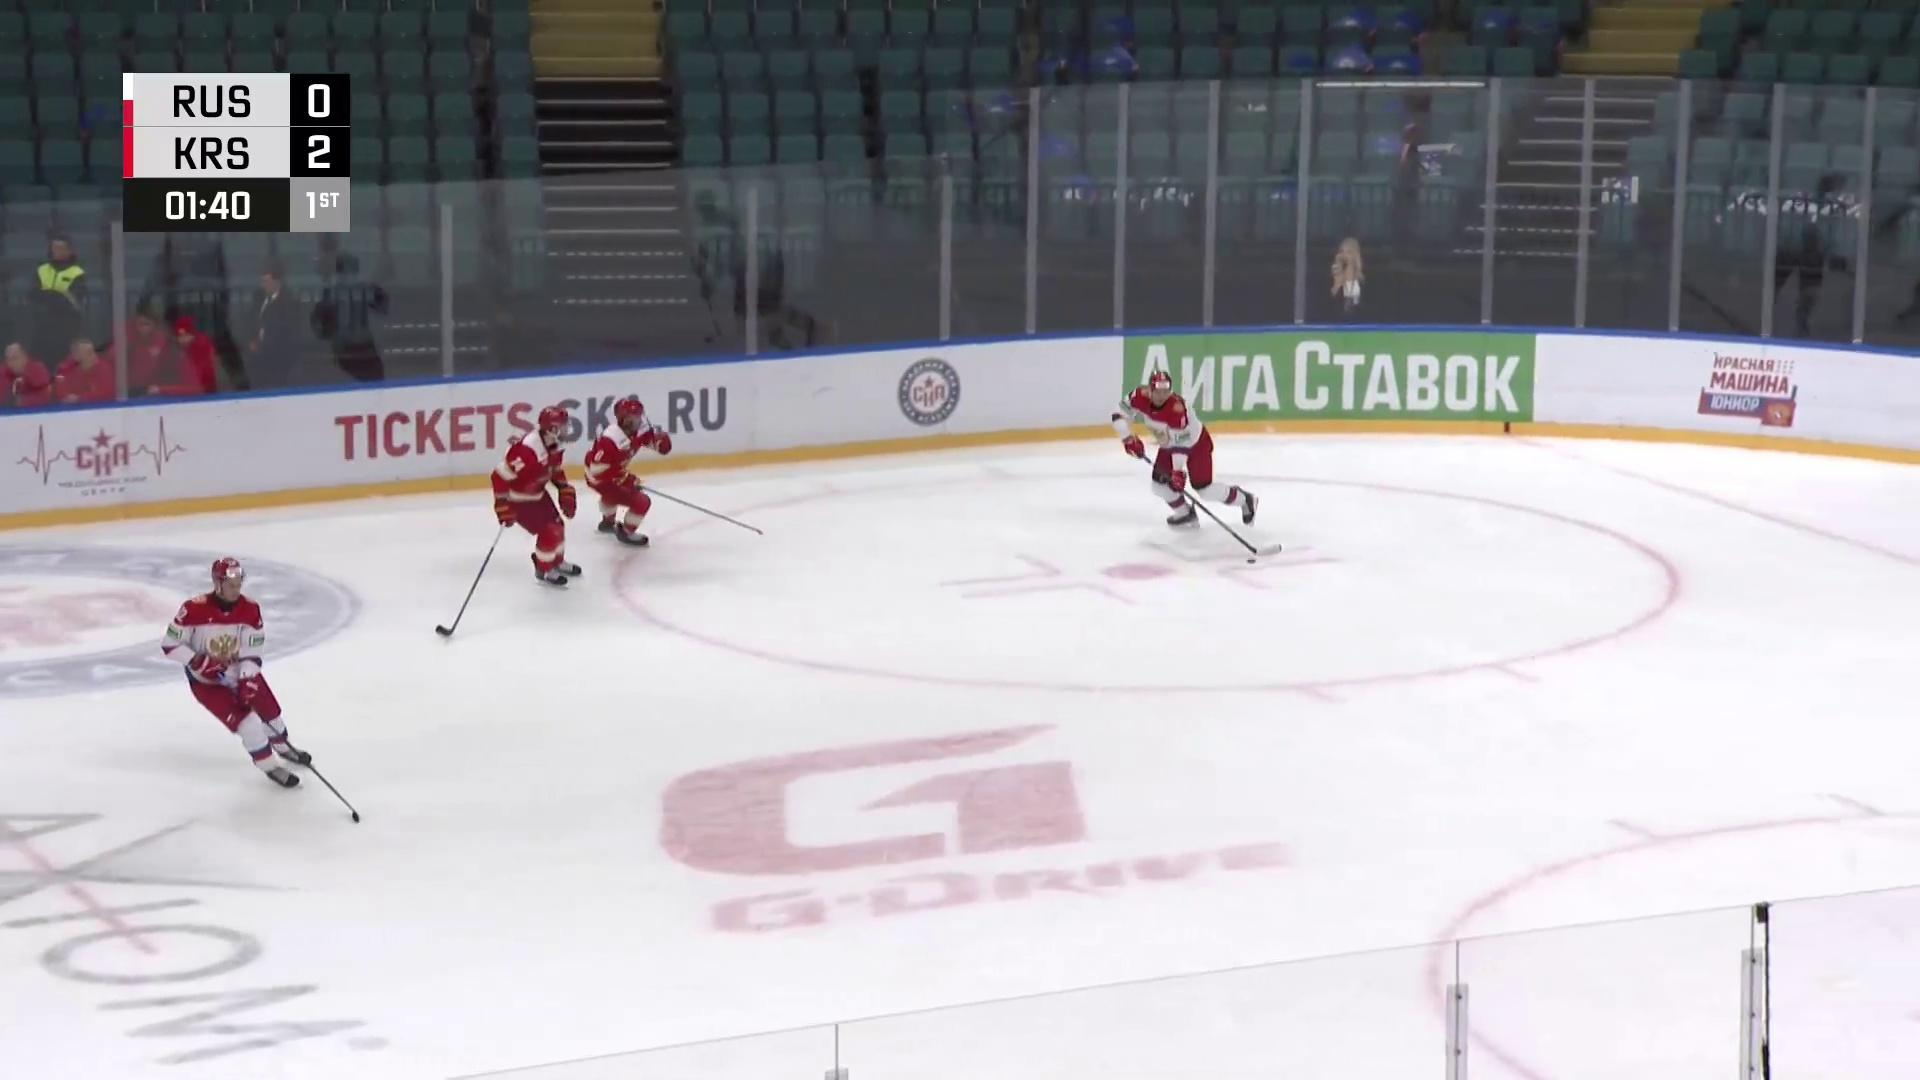ball: (1246, 558, 1258, 566)
